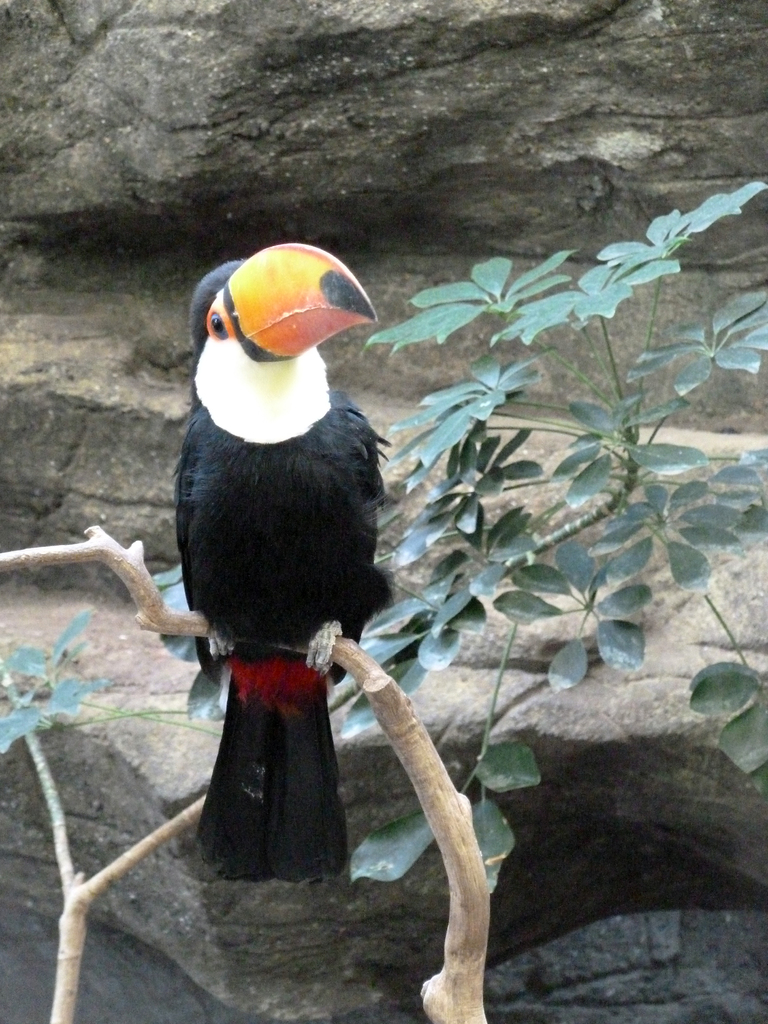Bird: (168, 242, 394, 883)
